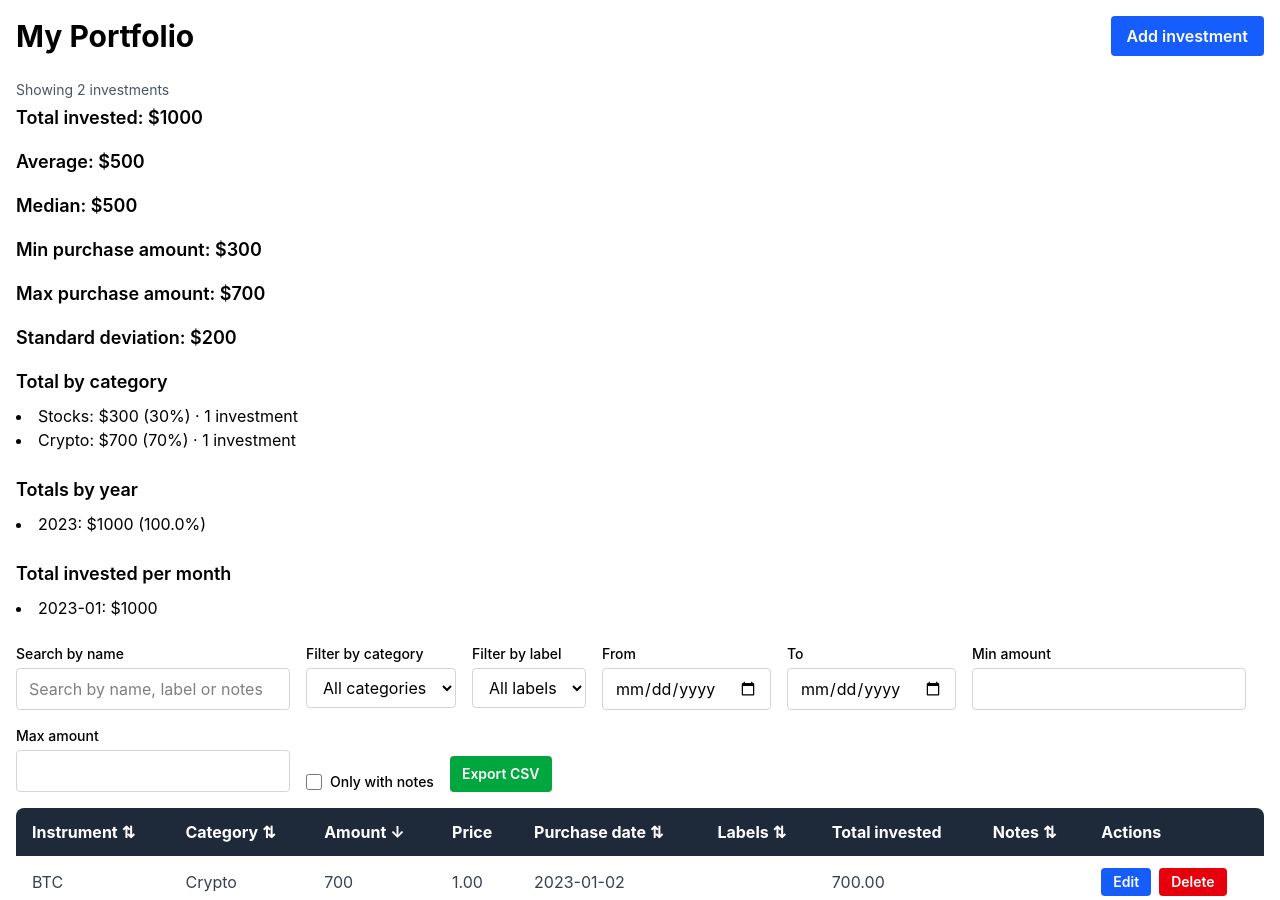
Scenario: HomePage › issue #59: each category's share of the portfolio › AC-002: percentages recompute against the new filtered total when filters change
Check: the list item "Stocks: $300 (30%) · 1 investment" is shown, box [38,406,298,426]
Check: the list item "Crypto: $700 (70%) · 1 investment" is shown, box [38,430,296,450]
Select "Crypto" in the dropdown labelled "Filter by category" at x=381, y=688, box [306,668,456,708]
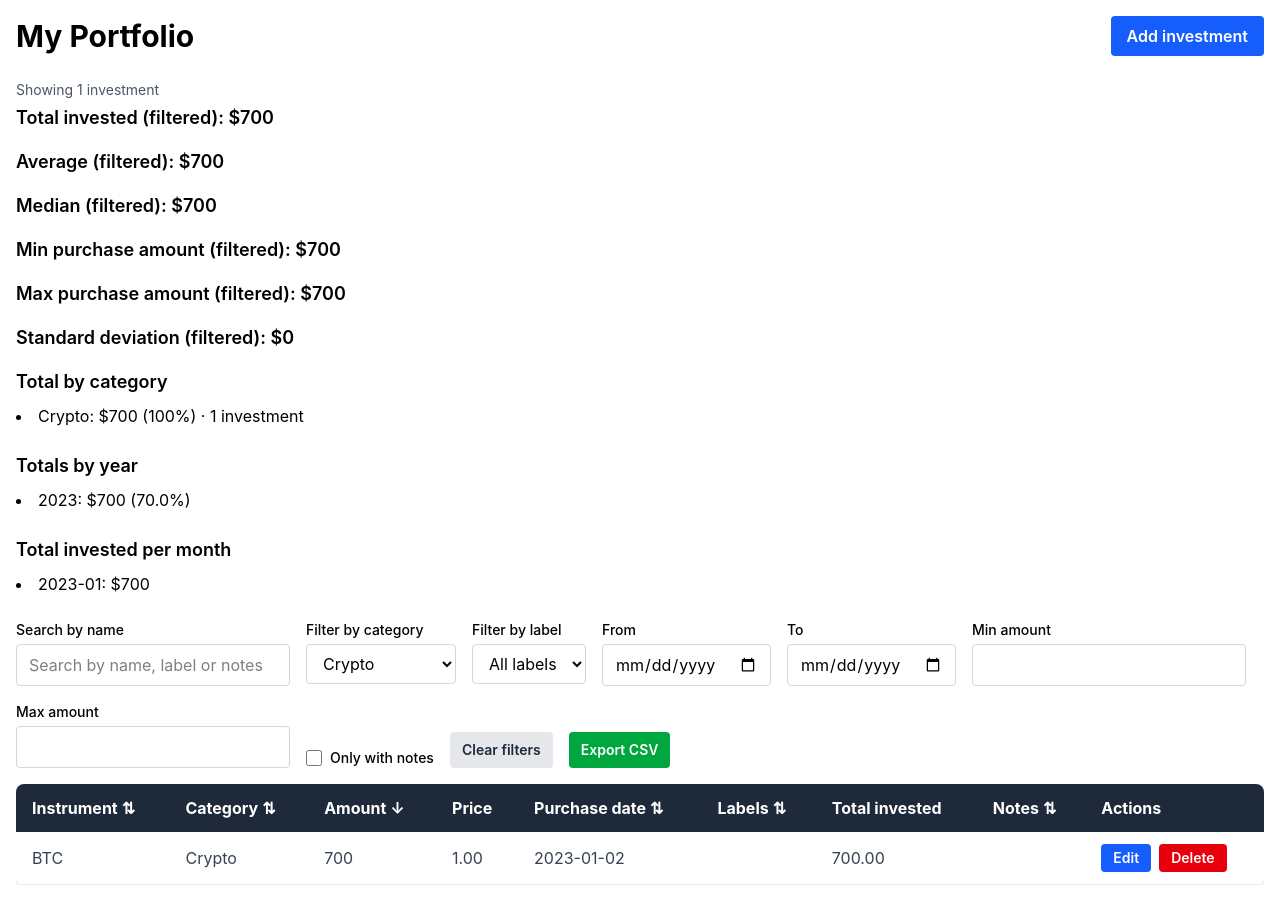
Check: the list item "Stocks:" is gone
Check: the list item "Crypto: $700 (100%) · 1 investment" is shown, box [38,406,304,426]
